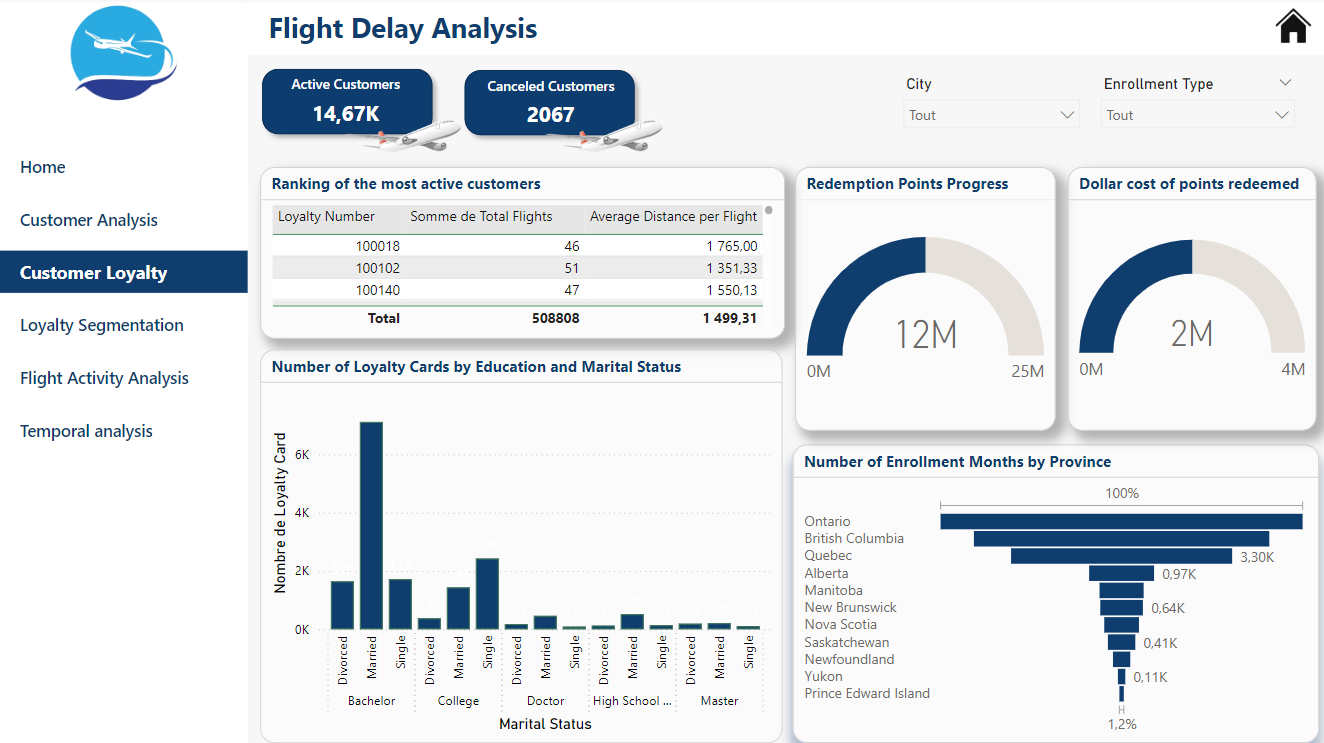

Layout of this report page (visuals, bound fields, positions):
{"tool":"powerbi","page":{"name":"Customer Loyalty","canvas":[1280,720],"ordinal":2},"visuals":[{"type":"slicer","fields":{"Values":["Customer Loyalty History.City"]},"box":[862.7,70.1,191,56.7],"z":0},{"type":"slicer","fields":{"Values":["Customer Loyalty History.Enrollment Type"]},"box":[1053.7,70.1,207.5,56.7],"z":1000},{"type":"shape","box":[0,0,240.1,720.4],"z":2000},{"type":"shape","box":[239.9,0,1040.1,56.3],"z":3000},{"type":"image","box":[60,0,118.6,107.1],"z":4000},{"type":"image","box":[1218.6,0,61.4,55.7],"z":5000},{"type":"funnel","title":"Number of Enrollment Months by Province","fields":{"Category":["Customer Loyalty History.Province"],"Y":["CountNonNull(Customer Loyalty History.Enrollment Month)"]},"box":[766.1,431.9,507.9,288.3],"z":6000},{"type":"tableEx","title":"Ranking of the most active customers","fields":{"Values":["Customer Flight Activity.Loyalty Number","Sum(Customer Flight Activity.Total Flights)","Measures Table.Average Distance per Flight"]},"box":[252.1,164.1,506.7,165.3],"z":7000},{"type":"pageNavigator","box":[0,142.4,240.1,298],"z":8000},{"type":"shape","box":[244.8,60.9,182.5,81.2],"z":9000},{"type":"card","title":"Active Customers","fields":{"Values":["Measures Table.NombreClientsActifs"]},"box":[255.7,75,157.5,60],"z":10000},{"type":"shape","box":[440.8,61.3,182.2,80.8],"z":11000},{"type":"card","title":"Canceled Customers","fields":{"Values":["Measures Table.NombreClientsAnnulés"]},"box":[454.1,75.8,158,59.1],"z":12000},{"type":"image","box":[519.3,95.1,129.1,68.8],"z":13000},{"type":"image","box":[325,95.1,129.1,68.8],"z":14000},{"type":"clusteredColumnChart","title":"Number of Loyalty Cards by Education and Marital Status","fields":{"Category":["Customer Loyalty History.Education","Customer Loyalty History.Marital Status"],"Y":["CountNonNull(Customer Loyalty History.Loyalty Card)"]},"box":[252.1,340.2,504.3,380],"z":15000},{"type":"gauge","title":"Redemption Points Progress","fields":{"Y":["Sum(Customer Flight Activity.Points Redeemed)"]},"box":[768.5,164.1,250.9,254.6],"z":16000},{"type":"gauge","title":"Dollar cost of points redeemed","fields":{"Y":["Sum(Customer Flight Activity.Dollar Cost Points Redeemed)"]},"box":[1031.5,164.1,240.1,254.6],"z":17000}]}

Visuals, with their boxes on the page's 1280x720 design canvas (x1, y1, x2, y2). These are canvas units, not pixel positions in the 1324x743 screenshot, which may show the page scaled, cropped or inside an application window:
slicer - Customer Loyalty History.City: [863,70,1054,127]
slicer - Customer Loyalty History.Enrollment Type: [1054,70,1261,127]
shape: [0,0,240,720]
shape: [240,0,1280,56]
image: [60,0,179,107]
image: [1219,0,1280,56]
"Number of Enrollment Months by Province" funnel: [766,432,1274,720]
"Ranking of the most active customers" tableEx: [252,164,759,329]
pageNavigator: [0,142,240,440]
shape: [245,61,427,142]
"Active Customers" card: [256,75,413,135]
shape: [441,61,623,142]
"Canceled Customers" card: [454,76,612,135]
image: [519,95,648,164]
image: [325,95,454,164]
"Number of Loyalty Cards by Education and Marital Status" clusteredColumnChart: [252,340,756,720]
"Redemption Points Progress" gauge: [768,164,1019,419]
"Dollar cost of points redeemed" gauge: [1032,164,1272,419]
